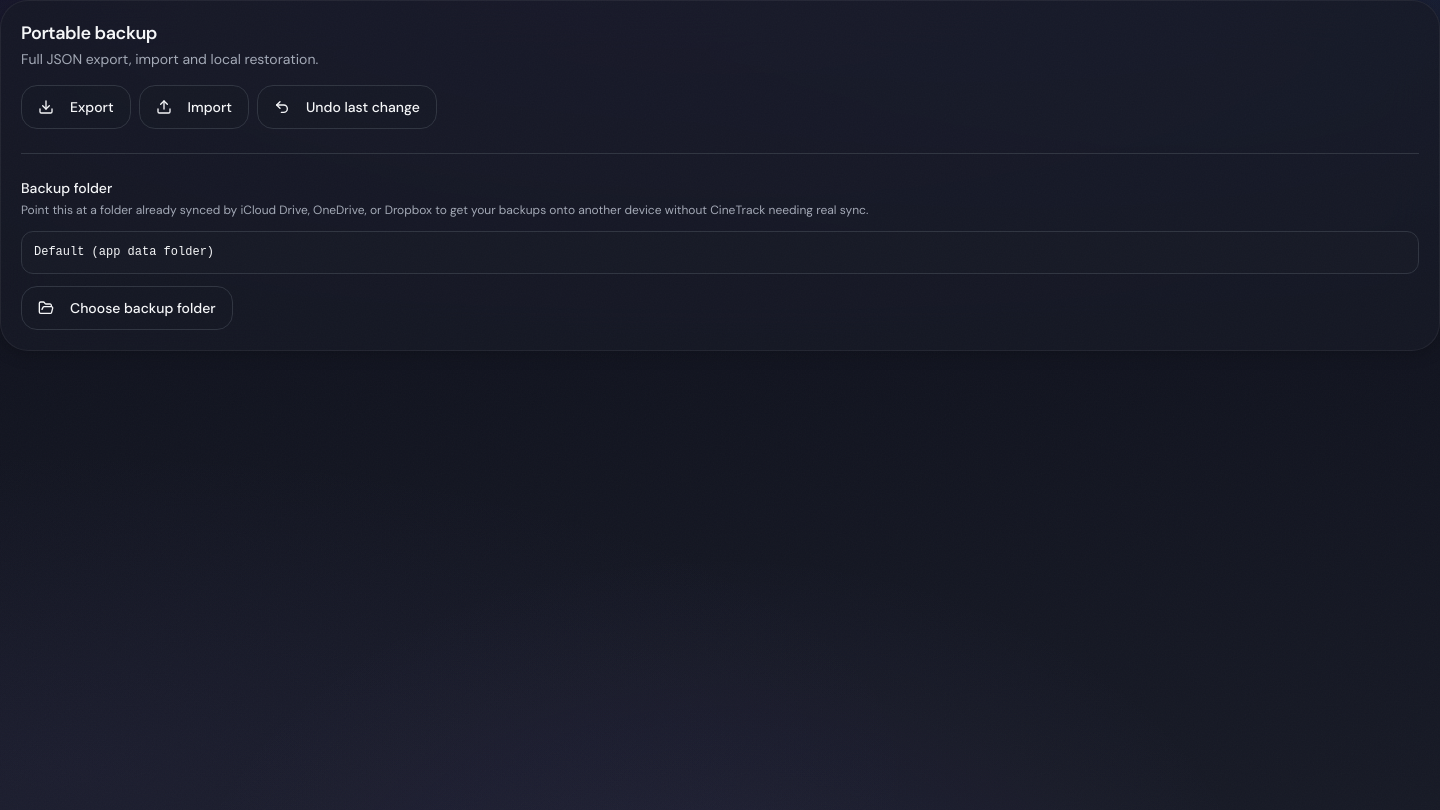
it: BackupTools › undo last import › opens the undo confirmation dialog
The image size is (1440, 810).
What coordinates should you click on to do the following:
click the button "Undo last change"
I would click on:
 (347, 107)
Its box is x1=257 y1=85 x2=437 y2=129.
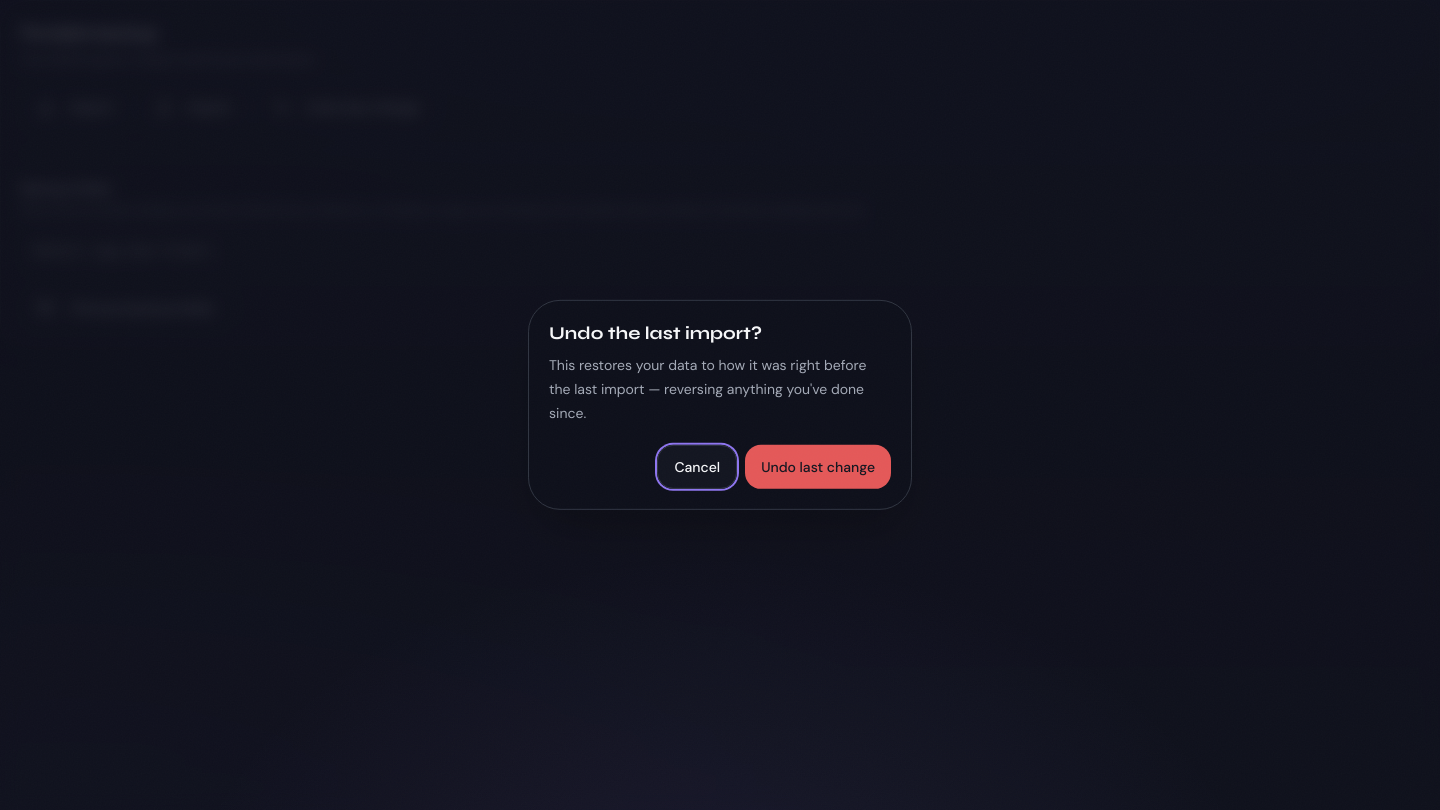
Expected: the heading "Undo the last import?" is shown, x1=549 y1=322 x2=762 y2=344
